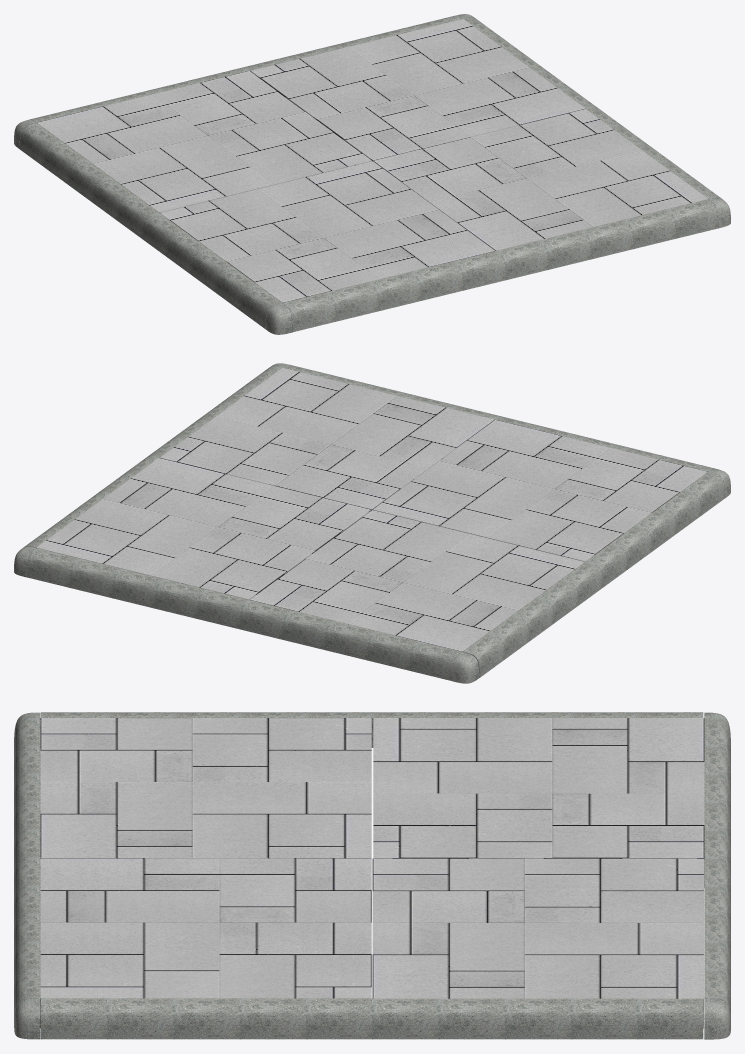
Rendered from tile.fbx.
3 renders of one model, top to bottom at view 1: azimuth 30°, elevation 25°; view 2: azimuth 150°, elevation 25°; view 3: azimuth 270°, elevation 25°, orthographic. The views are drawn at different scales.
Parts seen in each view (by area): view 1: Cube; view 2: Cube; view 3: Cube.
Boxes of the visible parts, box(x1,y1,x2,y2) form: Cube: box(14, 14, 730, 334); Cube: box(14, 363, 730, 683); Cube: box(14, 712, 730, 1039).
Bounding box in the file's own units: 216 × 10.07 × 216.
Materials: 3 (3 with a texture image).
